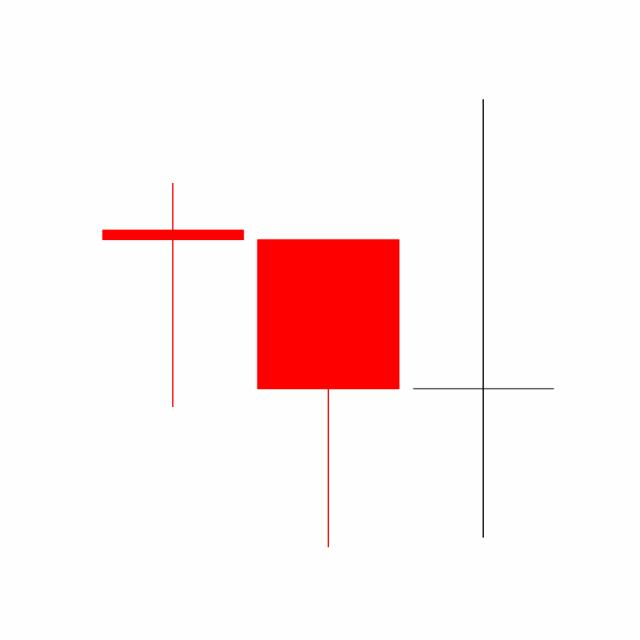Hammer: (249, 235, 406, 550)
